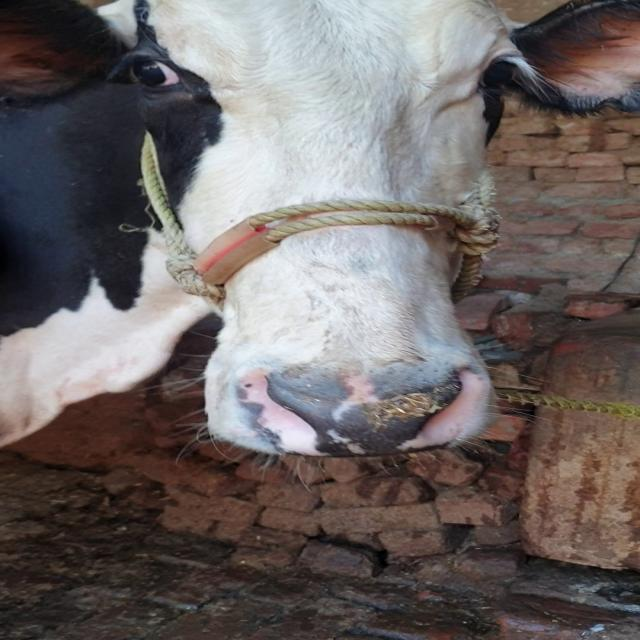cowFace: (127, 0, 489, 455)
